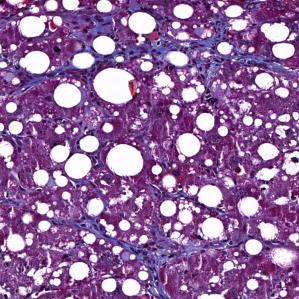fibrosis: (158, 39, 257, 87), (115, 239, 200, 277), (64, 11, 132, 45)
